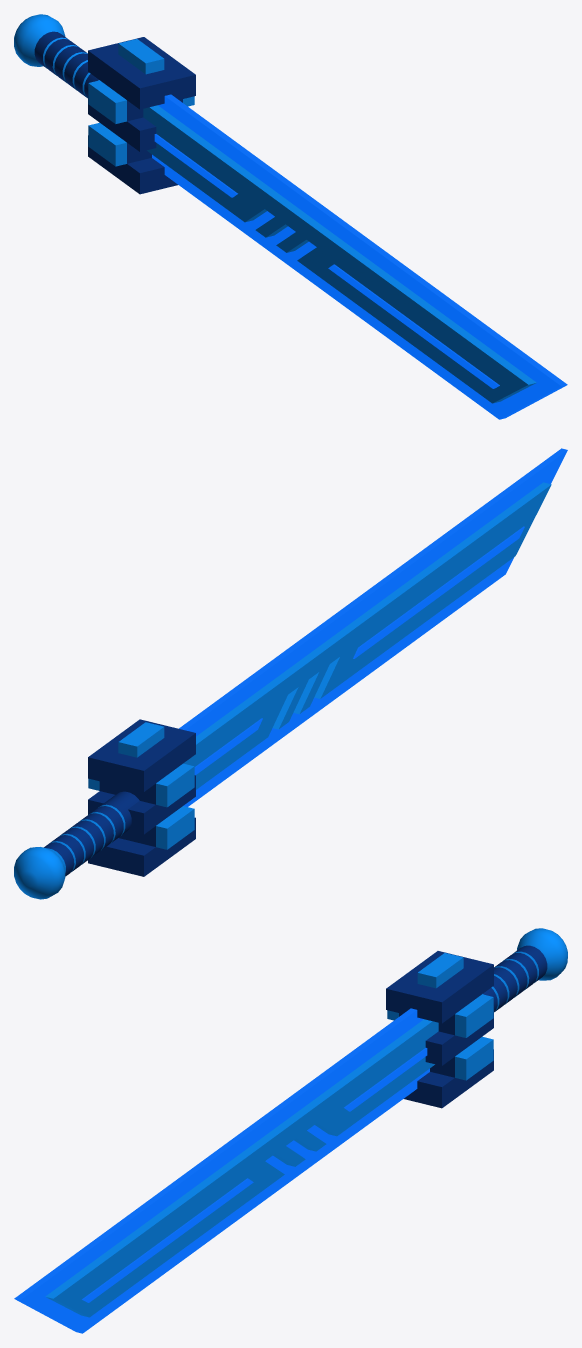
The model's file is sword.glb.
3 renders of one model, top to bottom at view 1: azimuth 30°, elevation 25°; view 2: azimuth 150°, elevation 25°; view 3: azimuth 330°, elevation 25°, orthographic.
Visible parts, largest first — view 1: Sword; view 2: Sword; view 3: Sword.
Part boxes in pixels (box(x1,y1,x2,y2)): Sword: box(14, 14, 567, 419); Sword: box(14, 448, 567, 899); Sword: box(14, 928, 567, 1333).
Size of the model in its own units: 0.1855 by 0.2883 by 2.19.
